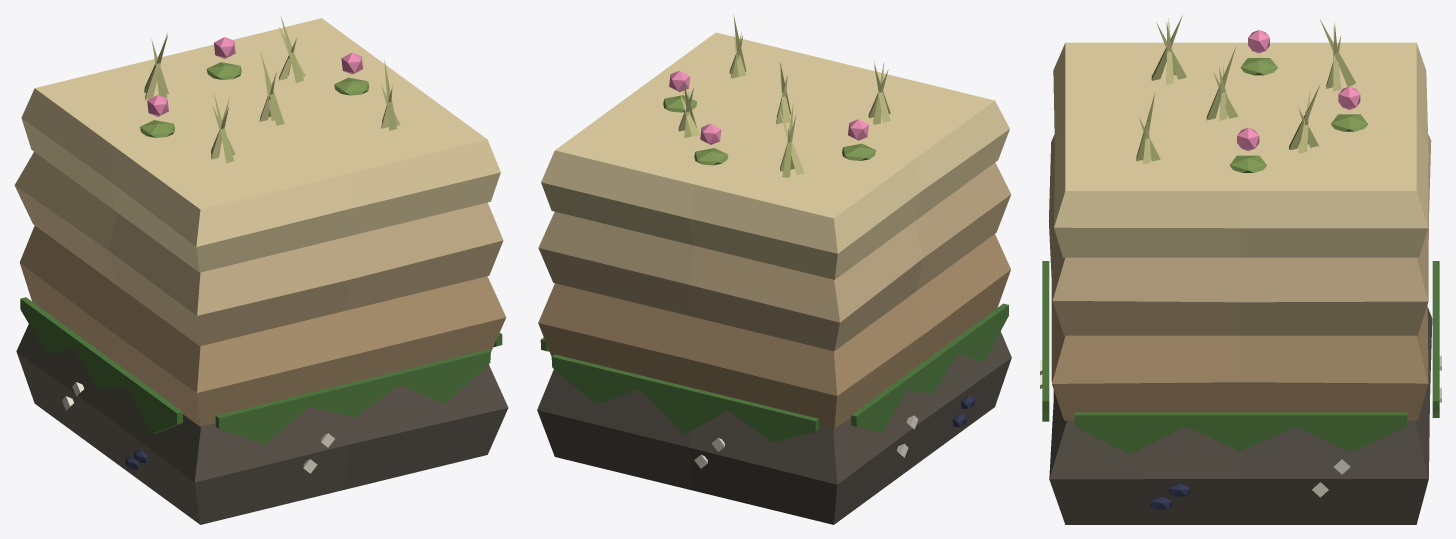
Rendered from cliff_sea_b.glb.
3 views of the same model, side by side, from view 1: azimuth 30°, elevation 25°; view 2: azimuth 150°, elevation 25°; view 3: azimuth 270°, elevation 25° (orthographic). The views are drawn at different scales.
Visible parts, largest first — view 1: cliff_sea_b; view 2: cliff_sea_b; view 3: cliff_sea_b.
Part boxes in pixels (left/top/right/bottom): cliff_sea_b: left=14, top=16, right=508, bottom=524; cliff_sea_b: left=537, top=15, right=1011, bottom=524; cliff_sea_b: left=1040, top=15, right=1441, bottom=524.
Bounding box in the file's own units: 1.11 × 1.24 × 1.11.
